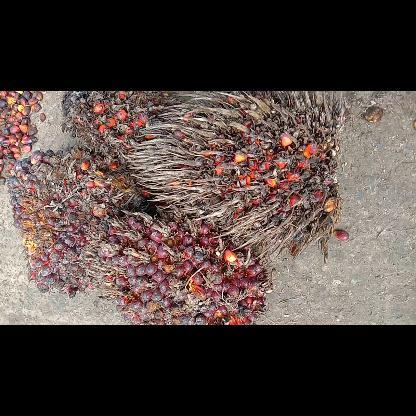TBS masak: (84, 202, 272, 324), (7, 145, 149, 297)
Terlalu masak: (126, 90, 344, 260), (61, 91, 171, 164)
